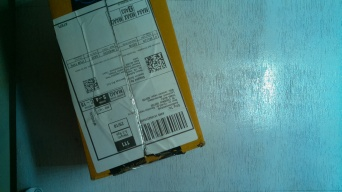a: (40, 1, 215, 180)
